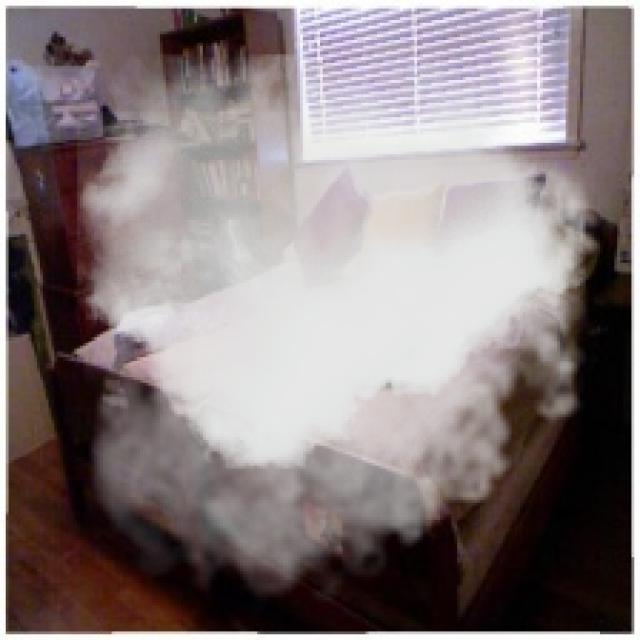smoke: (77, 55, 617, 614)
